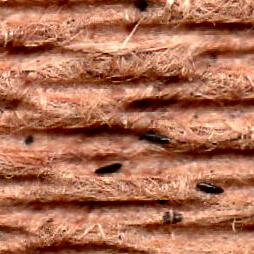egg: (140, 133, 169, 143), (197, 183, 223, 192), (96, 164, 121, 173)
